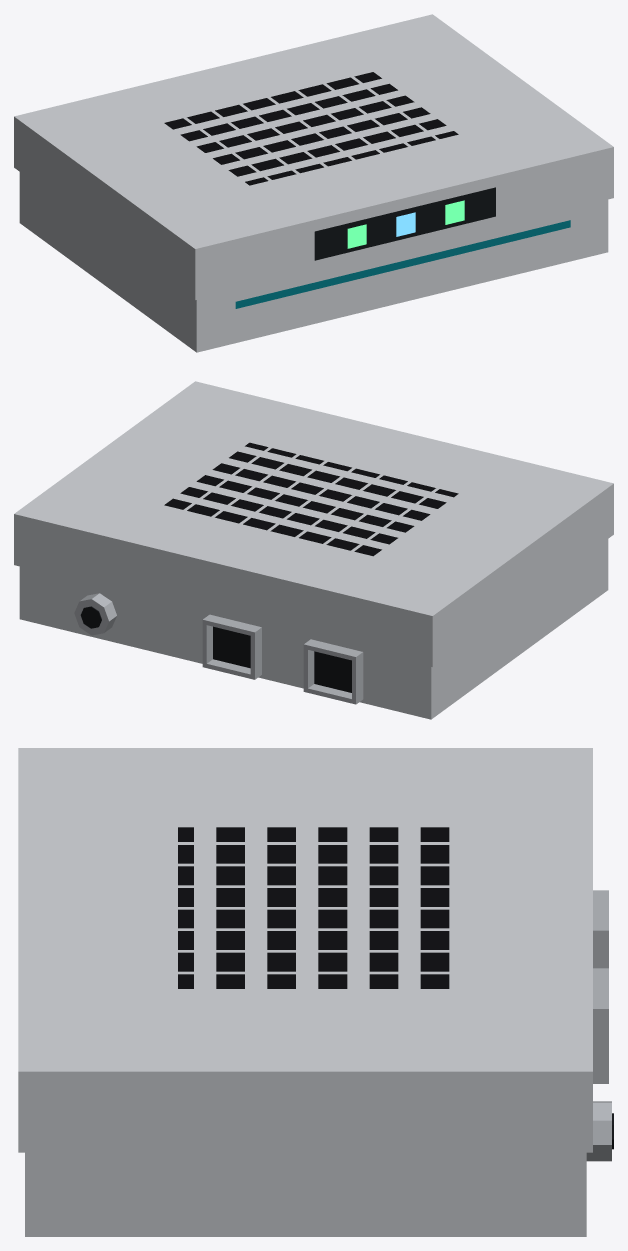
The model's file is ISP_CPE.glb.
3 renders of one model, top to bottom at view 1: azimuth 30°, elevation 25°; view 2: azimuth 150°, elevation 25°; view 3: azimuth 270°, elevation 25°, orthographic. The views are drawn at different scales.
Parts seen in each view (by area): view 1: ISP_CPE; view 2: ISP_CPE; view 3: ISP_CPE.
Boxes of the visible parts, <box> form: ISP_CPE: <box>14,14,613,352</box>; ISP_CPE: <box>14,381,613,719</box>; ISP_CPE: <box>18,748,613,1236</box>.
Bounding box in the file's own units: 0.12 × 0.0323 × 0.094.
Materials: 7 (1 with a texture image).
